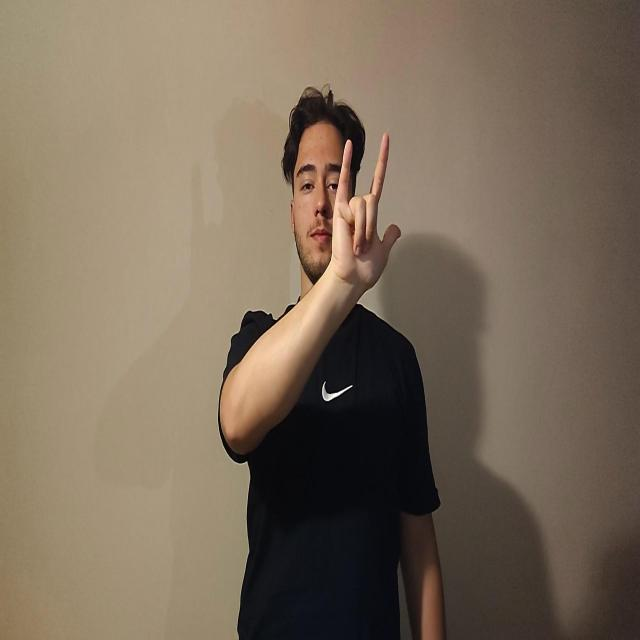iloveyou: (330, 132, 401, 296)
